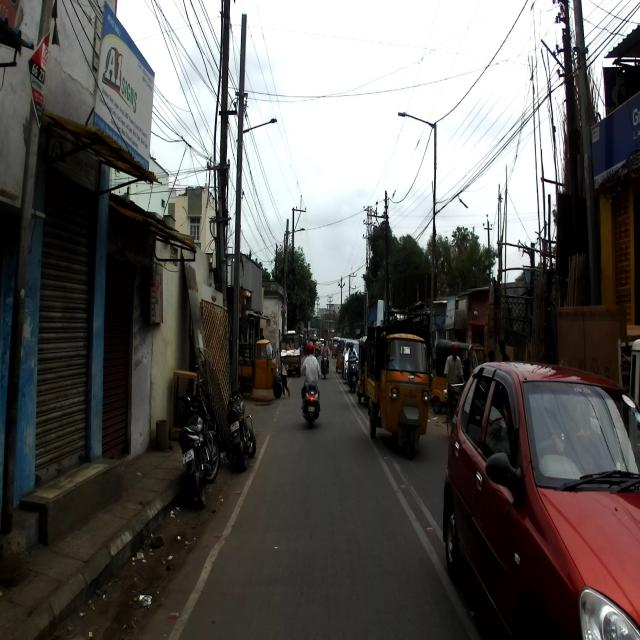autorickshaw: (364, 330, 430, 455), (431, 338, 487, 415), (238, 335, 282, 400)
car: (441, 358, 639, 640)
motorcycle: (179, 376, 220, 511), (225, 381, 257, 471)
scooter: (301, 372, 320, 424), (346, 352, 359, 394)
